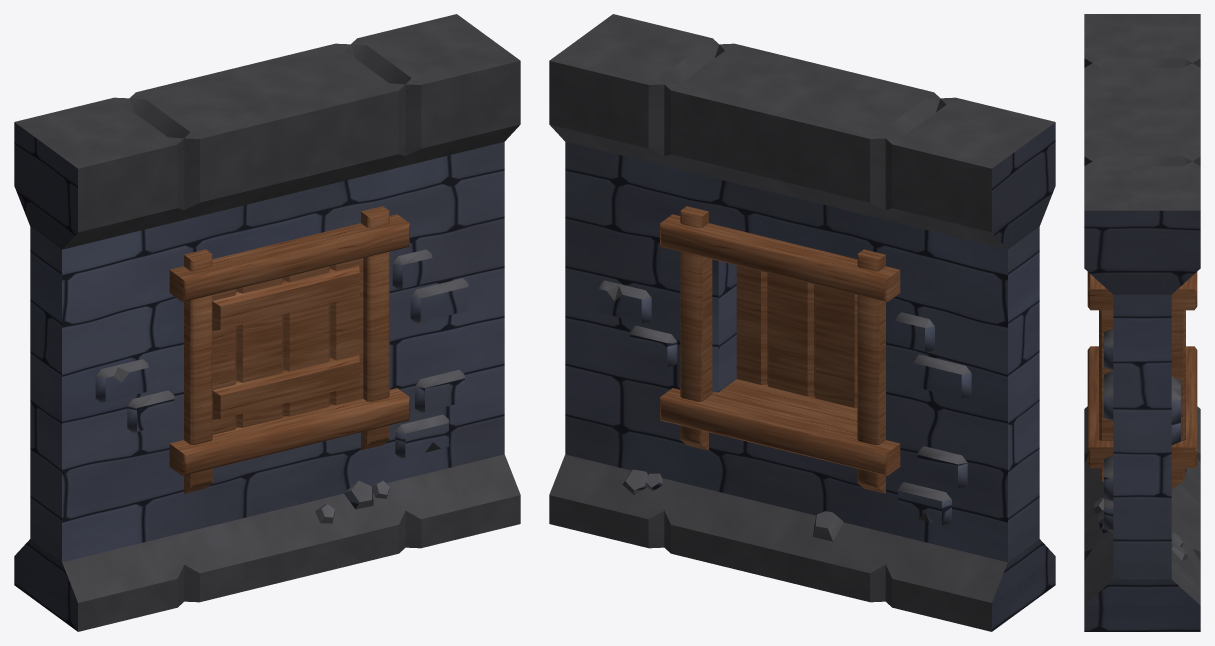
The model's file is wall_window_closed.gltf.
The picture shows the model from 3 angles, left to right: view 1: azimuth 30°, elevation 25°; view 2: azimuth 150°, elevation 25°; view 3: azimuth 270°, elevation 25°; orthographic projection. The views are drawn at different scales.
Visible parts, largest first — view 1: wall_window_closed; view 2: wall_window_closed; view 3: wall_window_closed.
Part boxes in pixels (<box>): wall_window_closed: <box>14,14,520,631</box>; wall_window_closed: <box>549,14,1055,631</box>; wall_window_closed: <box>1084,14,1200,631</box>.
Bounding box in the file's own units: 4 × 4 × 1.
Materials: 3 (3 with a texture image).
